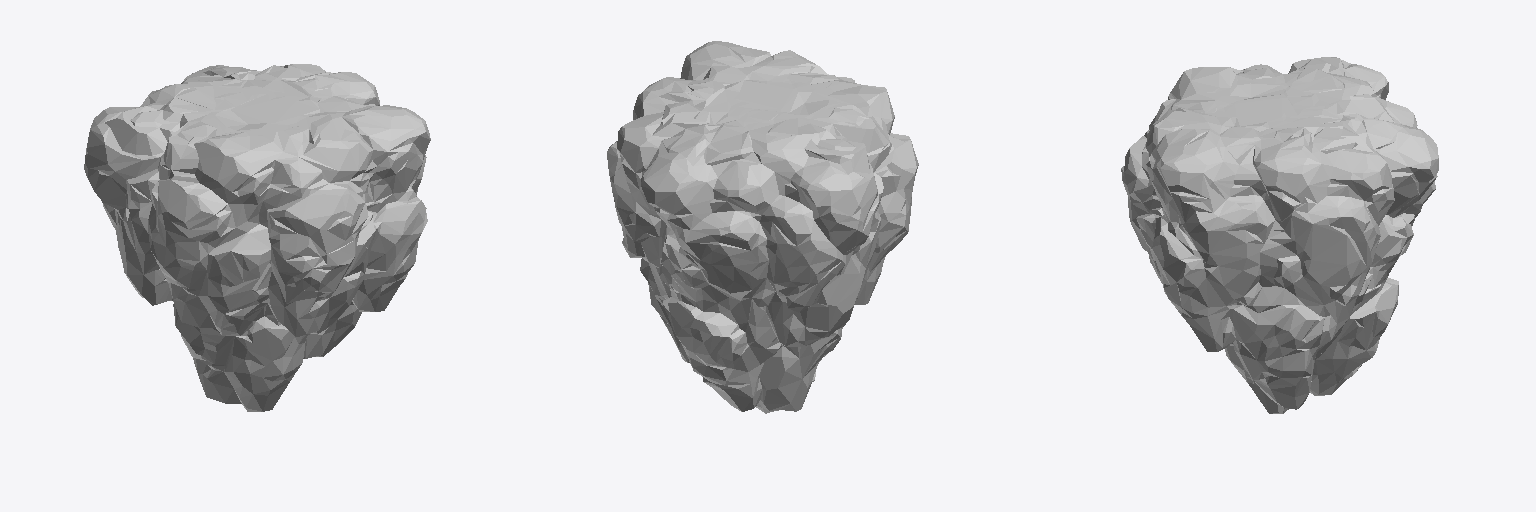
File: mount.obj
3 renders of one model, left to right at view 1: azimuth 30°, elevation 25°; view 2: azimuth 150°, elevation 25°; view 3: azimuth 270°, elevation 25°, orthographic.
Visible parts, largest first — view 1: the_mount; view 2: the_mount; view 3: the_mount.
Boxes of the visible parts, <box> form: the_mount: <box>84,64,430,411</box>; the_mount: <box>607,41,918,413</box>; the_mount: <box>1121,57,1438,413</box>.
Size of the model in its own units: 1.54 by 1.73 by 1.61.